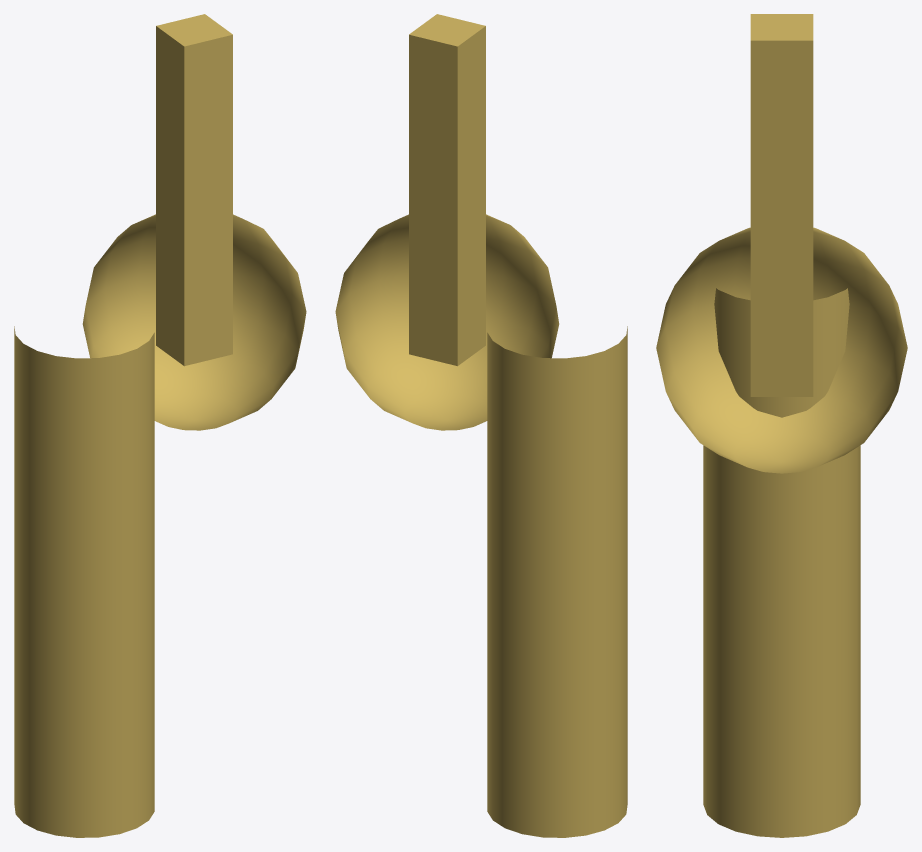
Rendered from sax.glb.
The picture shows the model from 3 angles, left to right: view 1: azimuth 30°, elevation 25°; view 2: azimuth 150°, elevation 25°; view 3: azimuth 270°, elevation 25°; orthographic projection. The views are drawn at different scales.
Visible parts, largest first — view 1: sax; view 2: sax; view 3: sax.
Part boxes in pixels (box(x1,y1,x2,y2)): sax: box(14, 14, 306, 837); sax: box(335, 14, 627, 837); sax: box(656, 14, 907, 837).
Bounding box in the file's own units: 0.44 × 1.18 × 0.32.
